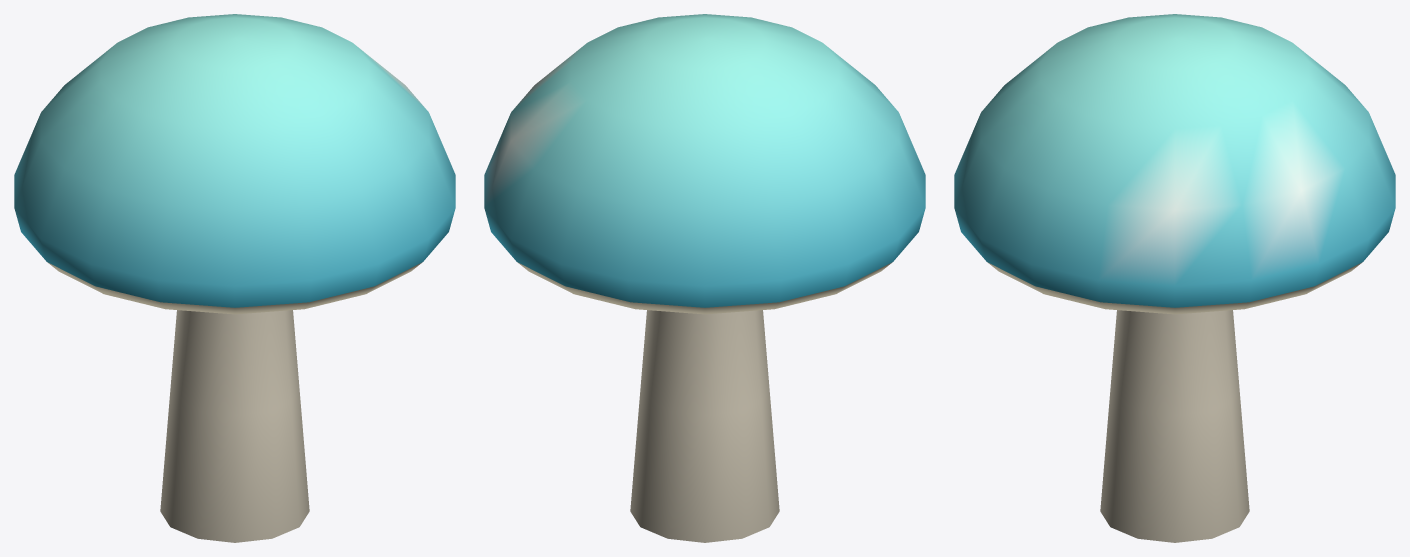
Rendered from fairy_mushroom.glb.
The picture shows the model from 3 angles, left to right: view 1: azimuth 30°, elevation 25°; view 2: azimuth 150°, elevation 25°; view 3: azimuth 270°, elevation 25°; orthographic projection.
Parts seen in each view (by area): view 1: fairy_mushroom_glow, fairy_mushroom_main; view 2: fairy_mushroom_glow, fairy_mushroom_main; view 3: fairy_mushroom_glow, fairy_mushroom_main.
Part boxes in pixels (box(x1,y1,x2,y2)): fairy_mushroom_glow: box(14, 14, 455, 307); fairy_mushroom_main: box(47, 262, 422, 542); fairy_mushroom_glow: box(484, 14, 925, 307); fairy_mushroom_main: box(517, 262, 892, 542); fairy_mushroom_glow: box(954, 14, 1395, 307); fairy_mushroom_main: box(987, 262, 1362, 542).
Size of the model in its own units: 0.132 by 0.154 by 0.13.
